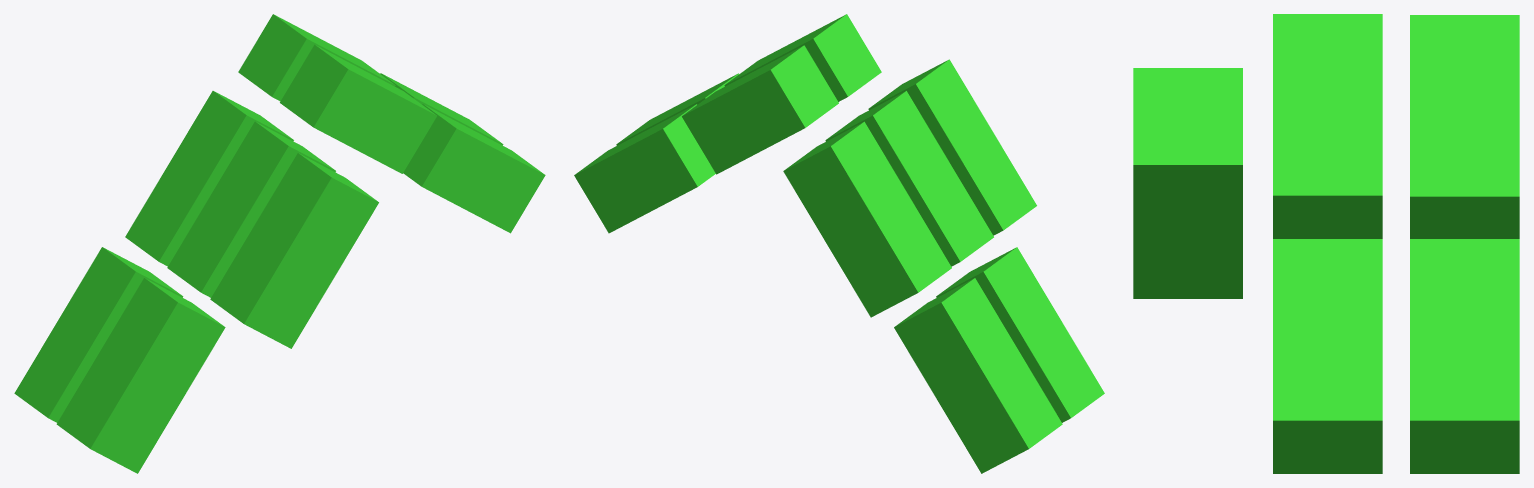
The model's file is POI_BOX.glb.
The picture shows the model from 3 angles, left to right: view 1: azimuth 30°, elevation 25°; view 2: azimuth 150°, elevation 25°; view 3: azimuth 270°, elevation 25°; orthographic projection. The views are drawn at different scales.
Visible parts, largest first — view 1: POI_7, POI_8, POI_5, POI_6, POI_0, POI_1, POI_4, POI_2, POI_3; view 2: POI_1, POI_0, POI_2, POI_8, POI_7, POI_6, POI_3, POI_5, POI_4; view 3: POI_3, POI_4, POI_8, POI_5, POI_2.
Boxes of the visible parts, x1,y1,x2,y2 form: POI_7: (56, 278, 225, 473); POI_8: (210, 153, 378, 348); POI_5: (280, 44, 436, 173); POI_6: (167, 121, 335, 297); POI_0: (14, 247, 183, 422); POI_1: (125, 91, 293, 266); POI_4: (403, 104, 545, 233); POI_2: (238, 14, 395, 101); POI_3: (380, 73, 503, 145); POI_1: (783, 121, 951, 317); POI_0: (894, 278, 1062, 473); POI_2: (682, 45, 838, 174); POI_8: (868, 59, 1036, 235); POI_7: (936, 247, 1104, 422); POI_6: (825, 91, 993, 266); POI_3: (574, 104, 715, 233); POI_5: (724, 14, 881, 101); POI_4: (616, 73, 738, 145); POI_3: (1410, 239, 1519, 473); POI_4: (1273, 239, 1382, 473); POI_8: (1133, 68, 1242, 298); POI_5: (1273, 14, 1382, 238); POI_2: (1410, 15, 1519, 238).
Size of the model in its own units: 0.3004 by 0.2227 by 0.1358.
